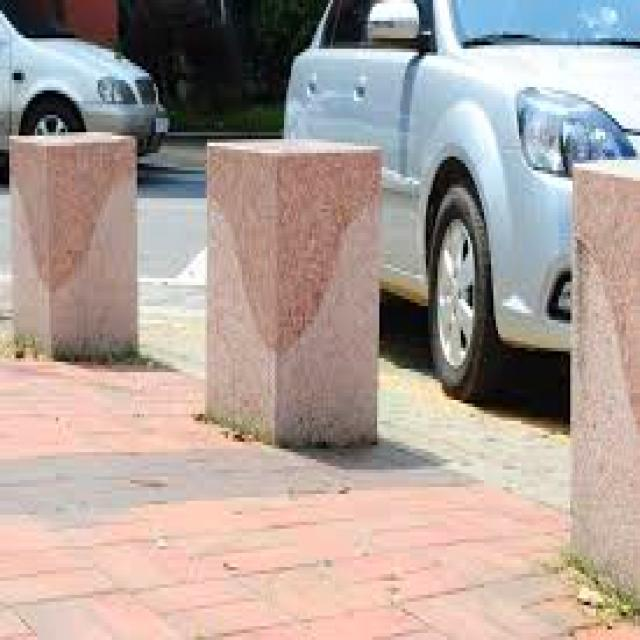bollard: (198, 124, 392, 463), (563, 144, 640, 635), (6, 124, 143, 370)
